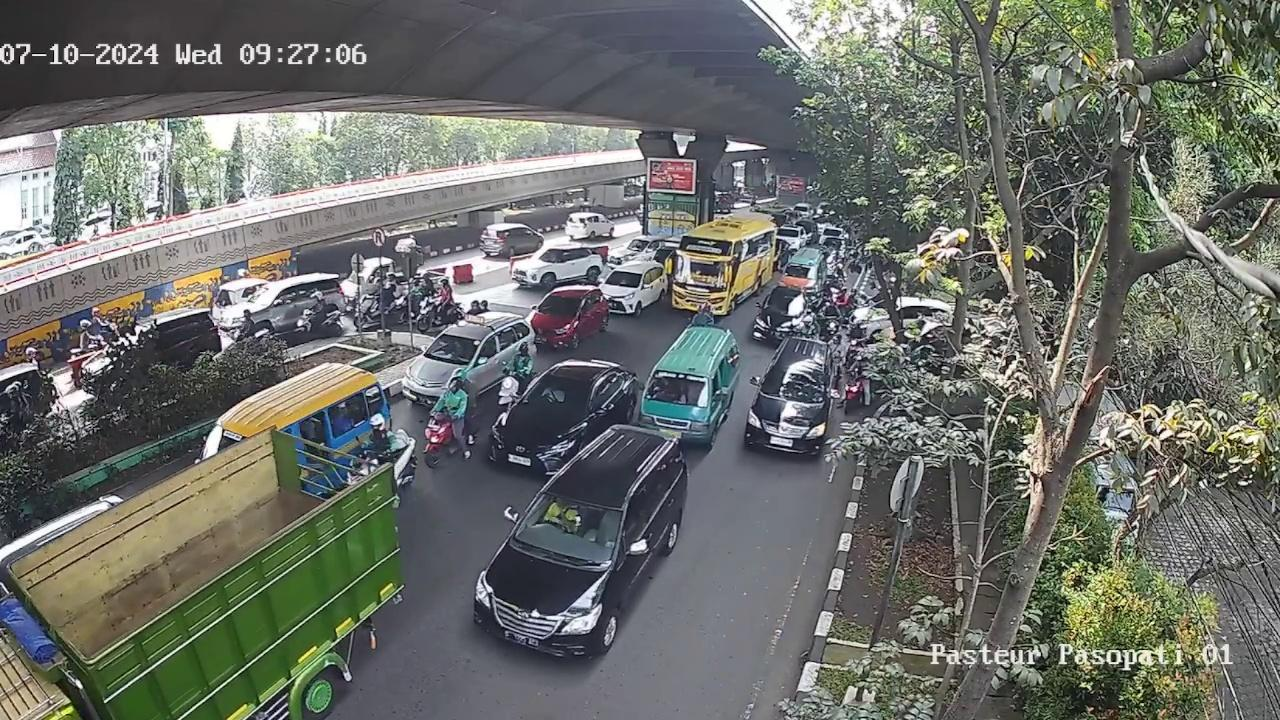pakai: (539, 383, 569, 407)
tidak-pakai: (539, 492, 592, 541)
windshield: (515, 485, 627, 558), (517, 376, 590, 417), (422, 330, 485, 367), (763, 365, 827, 400), (643, 373, 712, 404), (535, 292, 584, 314), (605, 269, 650, 287)
